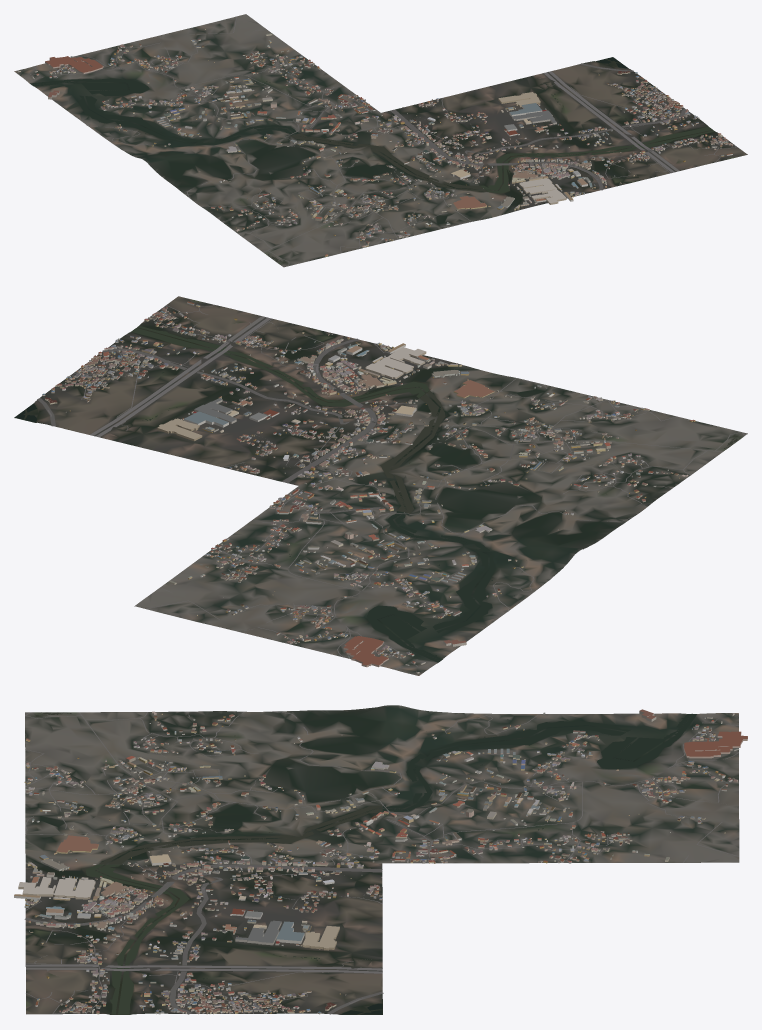
3 renders of one model, top to bottom at view 1: azimuth 30°, elevation 25°; view 2: azimuth 150°, elevation 25°; view 3: azimuth 270°, elevation 25°, orthographic. The views are drawn at different scales.
Parts seen in each view (by area): view 1: ground, buildings, roads, water; view 2: ground, buildings, roads, water; view 3: ground, buildings, water, roads.
Part boxes in pixels (x1,y1,x2,y2): ground: [14, 14, 747, 267]; buildings: [18, 29, 733, 256]; roads: [30, 16, 737, 266]; water: [30, 57, 714, 263]; ground: [14, 296, 747, 675]; buildings: [42, 301, 695, 673]; roads: [37, 305, 744, 669]; water: [14, 325, 740, 662]; ground: [25, 705, 739, 1014]; buildings: [14, 709, 747, 1014]; water: [34, 712, 696, 1014]; roads: [24, 711, 738, 1014].
Size of the model in its own units: 2819 by 42.41 by 2883.
